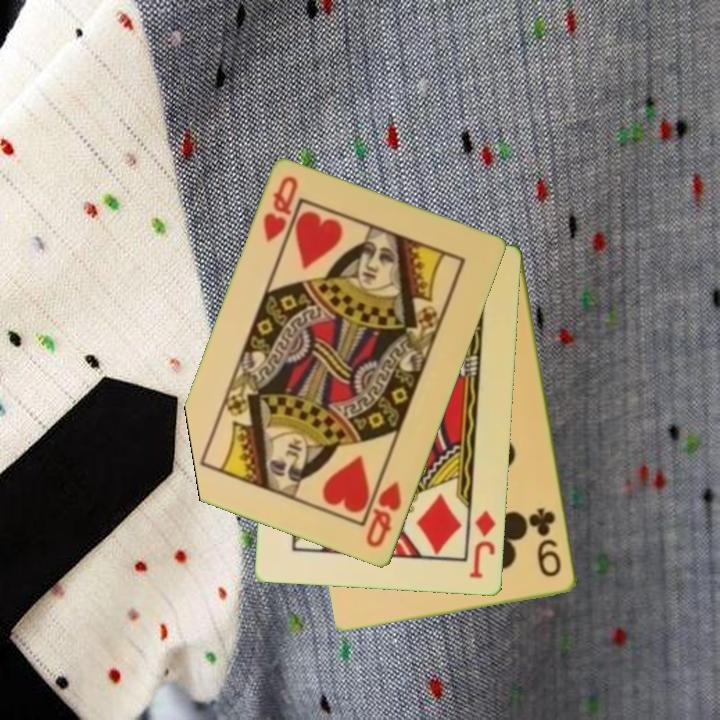9c: (528, 504, 565, 580)
Jd: (467, 507, 499, 582)
Qh: (362, 478, 405, 551), (260, 173, 302, 246)
